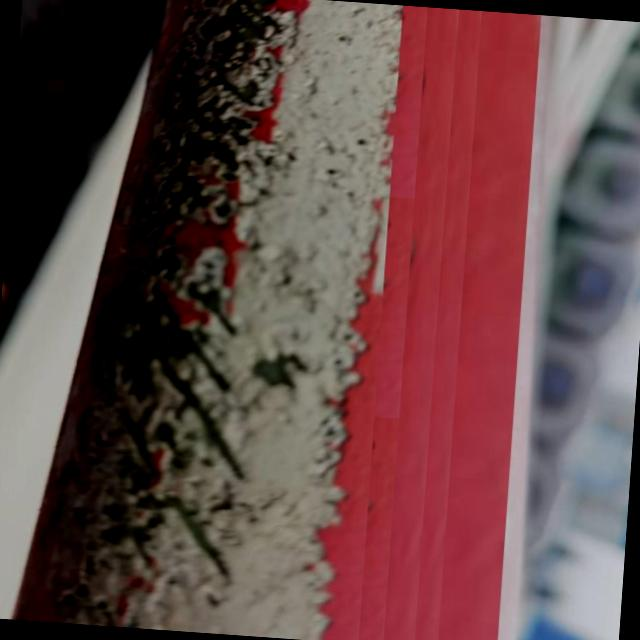corrosion: (51, 0, 397, 640)
